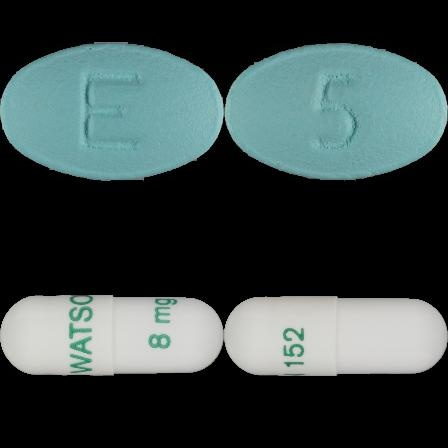54868-6165: (0, 0, 224, 224)
